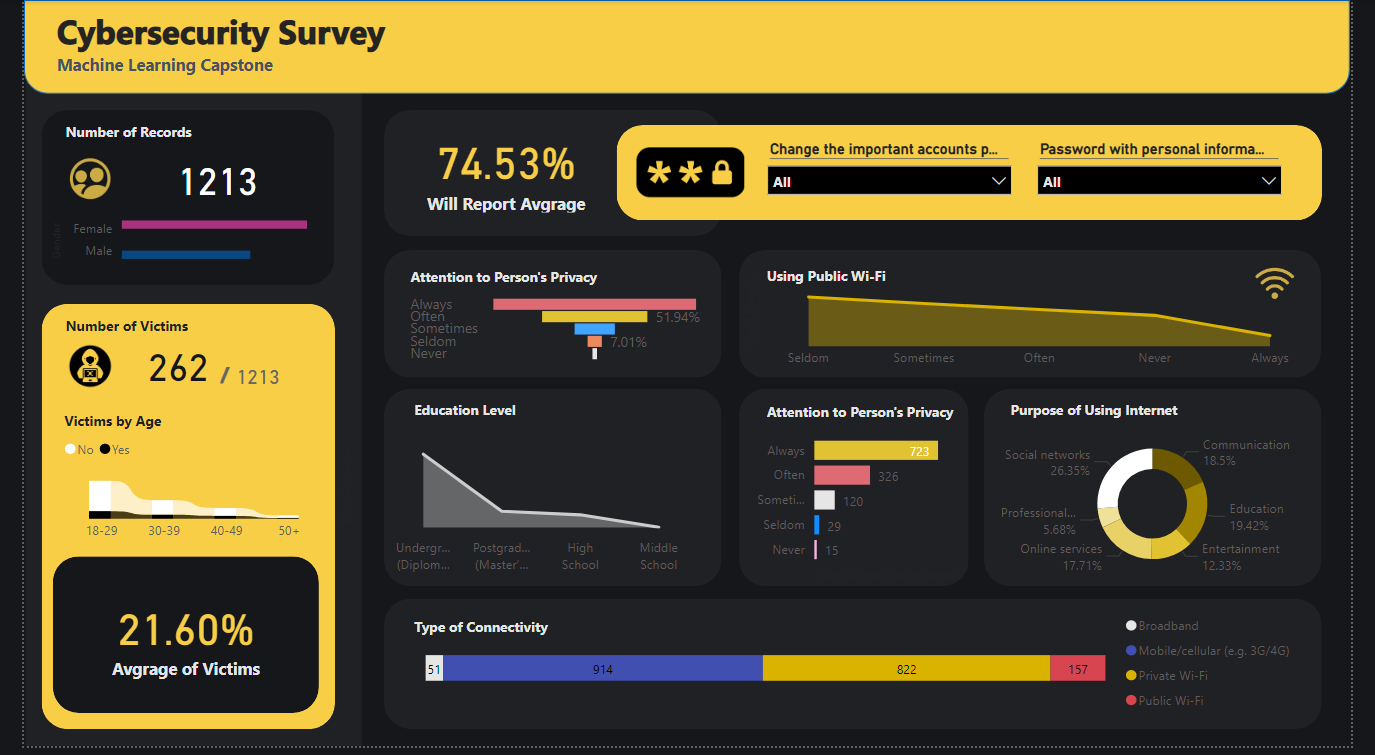

This screenshot's page, from the dashboard's own definition file:
{"tool":"powerbi","page":{"name":"Page 1","canvas":[1280,720],"ordinal":0},"visuals":[{"type":"shape","box":[1.2,0,324.4,720],"z":0},{"type":"shape","box":[0,0,1279.6,90.5],"z":1000},{"type":"shape","box":[16.9,106.1,282.2,168.8],"z":2000},{"type":"textbox","box":[27,4.1,399.7,79.7],"z":3000},{"type":"card","fields":{"Values":["CountNonNull(Records.record_id)"]},"box":[96.1,141.5,181.3,61.8],"z":4000},{"type":"image","box":[35,143.5,57.9,57.9],"z":5000},{"type":"shape","box":[16.5,292.5,282.9,410.6],"z":6000},{"type":"shape","box":[407.8,597,281.5,86.5],"z":7000},{"type":"shape","box":[27.5,537,256.8,151.1],"z":8000},{"type":"shape","box":[347.1,106.2,325.4,121.5],"z":9000},{"type":"shape","box":[571.3,121.1,680.5,91.8],"z":10000},{"type":"shape","box":[347.1,577.5,904.6,125.6],"z":11000},{"type":"shape","box":[926.4,374.9,325.4,190.4],"z":12000},{"type":"textbox","box":[35,113.4,199,43.4],"z":13000},{"type":"clusteredBarChart","fields":{"Y":["CountNonNull(Records.Gender)"],"Category":["Records.Gender"],"Series":["Records.Gender"]},"box":[20.5,180.9,278.6,94.1],"z":14000},{"type":"image","box":[32.6,319.6,62.7,66.3],"z":15000},{"type":"textbox","box":[35,300.3,199,43.4],"z":16000},{"type":"card","fields":{"Values":["CountNonNull(Records.Victim of cybercrime)"]},"box":[97.5,320,101.6,63.2],"z":17000},{"type":"card","fields":{"Values":["CountNonNull(Records.record_id)"]},"box":[199.1,344.7,53.6,38.5],"z":18000},{"type":"textbox","box":[184,342,24.7,42.6],"z":19000},{"type":"ribbonChart","fields":{"Category":["Records.Age"],"Series":["Records.Victim of cybercrime"],"Y":["CountNonNull(Records.Victim of cybercrime)"]},"box":[34.3,413.4,263.7,118.1],"z":20000},{"type":"textbox","box":[34.3,391.4,199.1,43.9],"z":21000},{"type":"donutChart","fields":{"Y":["Sum(Purpose of using internet.Communication)","Sum(Purpose of using internet.Education)","Sum(Purpose of using internet.Entertainment)","Sum(Purpose of using internet.Online services)","Sum(Purpose of using internet.Professional reasons)","Sum(Purpose of using internet.Social networks)"]},"box":[937.2,412.7,303.8,147.2],"z":22000},{"type":"card","fields":{"Values":["Records.AvgVictim"]},"box":[40.5,542.8,230.9,141.8],"z":23000},{"type":"textbox","box":[946.6,381.7,199.8,43.2],"z":24000},{"type":"shape","box":[690.1,241.2,561.7,122.9],"z":25000},{"type":"card","fields":{"Values":["Records.WillReportAvg"]},"box":[382.2,119.7,166.1,90.5],"z":26000},{"type":"barChart","fields":{"Y":["Sum(Type of connectivity.Broadband (wired))","Sum(Type of connectivity.Mobile/cellular phone network (e.g. 3G/4G))","Sum(Type of connectivity.Private Wi-Fi (e.g. in your home))","Sum(Type of connectivity.Public Wi-Fi (e.g. in coffee shop))"]},"box":[382.2,585.6,853.3,110.7],"z":27000},{"type":"textbox","box":[371.4,591,199.8,43.2],"z":28000},{"type":"slicer","fields":{"Values":["Records.Change the important accounts passwords frequently"]},"box":[706.3,130.5,256.5,68.9],"z":29000},{"type":"slicer","fields":{"Values":["Records.Password with personal information"]},"box":[966.9,130.5,256.5,82.4],"z":30000},{"type":"image","box":[586.1,108.9,113.4,114.8],"z":31000},{"type":"image","box":[1178.9,249.3,56.7,47.3],"z":33000},{"type":"textbox","box":[711.7,252,140.4,40.5],"z":34000},{"type":"shape","box":[690.1,374.9,221.4,190.4],"z":35000},{"type":"shape","box":[347.1,374.9,325.4,190.4],"z":36000},{"type":"areaChart","fields":{"Category":["Records.Education level"],"Y":["CountNonNull(Records.Education level)"]},"box":[299.7,413.2,351.1,147.2],"z":37000},{"type":"textbox","box":[371.4,381.7,199.8,43.2],"z":38000},{"type":"shape","box":[347.1,241.2,325.4,122.9],"z":39000},{"type":"textbox","box":[367.4,253.4,263.3,40.5],"z":40000},{"type":"funnel","fields":{"Category":["Records.Attention to person's account privacy"],"Y":["CountNonNull(Records.Attention to person's account privacy)"]},"box":[367.4,281.8,290.3,70.2],"z":41000},{"type":"clusteredBarChart","fields":{"Y":["CountNonNull(Records.Aware of the danger of clicking pop-up screens)"],"Category":["Records.Aware of the danger of clicking pop-up screens"]},"box":[671.2,403.3,240.3,162],"z":42000},{"type":"textbox","box":[711.6,383.1,199,41],"z":43000},{"type":"stackedAreaChart","fields":{"Category":["Records.Using public Wi-Fi"],"Y":["CountNonNull(Records.Using public Wi-Fi)"]},"box":[690.1,252,561.7,112.1],"z":43500}]}

Visuals, with their boxes in screenshot pixels (x1, y1, x2, y2), scaled from the page's 1280x720 canvas onto the 1375x755 screenshot:
shape: pyautogui.locateOnScreen(1, 0, 350, 754)
shape: pyautogui.locateOnScreen(0, 0, 1374, 95)
shape: pyautogui.locateOnScreen(18, 111, 321, 288)
textbox: pyautogui.locateOnScreen(29, 4, 458, 88)
card - CountNonNull(Records.record_id): pyautogui.locateOnScreen(103, 148, 298, 213)
image: pyautogui.locateOnScreen(38, 150, 100, 211)
shape: pyautogui.locateOnScreen(18, 307, 322, 737)
shape: pyautogui.locateOnScreen(438, 626, 740, 717)
shape: pyautogui.locateOnScreen(30, 563, 305, 722)
shape: pyautogui.locateOnScreen(373, 111, 722, 239)
shape: pyautogui.locateOnScreen(614, 127, 1345, 223)
shape: pyautogui.locateOnScreen(373, 606, 1345, 737)
shape: pyautogui.locateOnScreen(995, 393, 1345, 593)
textbox: pyautogui.locateOnScreen(38, 119, 251, 164)
clusteredBarChart - CountNonNull(Records.Gender) x Records.Gender: pyautogui.locateOnScreen(22, 190, 321, 288)
image: pyautogui.locateOnScreen(35, 335, 102, 405)
textbox: pyautogui.locateOnScreen(38, 315, 251, 360)
card - CountNonNull(Records.Victim of cybercrime): pyautogui.locateOnScreen(105, 336, 214, 402)
card - CountNonNull(Records.record_id): pyautogui.locateOnScreen(214, 361, 271, 402)
textbox: pyautogui.locateOnScreen(198, 359, 224, 403)
ribbonChart - Records.Age x Records.Victim of cybercrime: pyautogui.locateOnScreen(37, 433, 320, 557)
textbox: pyautogui.locateOnScreen(37, 410, 251, 456)
donutChart - Sum(Purpose of using internet.Communication) x Sum(Purpose of using internet.Education): pyautogui.locateOnScreen(1007, 433, 1333, 587)
card - Records.AvgVictim: pyautogui.locateOnScreen(44, 569, 292, 718)
textbox: pyautogui.locateOnScreen(1017, 400, 1231, 446)
shape: pyautogui.locateOnScreen(741, 253, 1345, 382)
card - Records.WillReportAvg: pyautogui.locateOnScreen(411, 126, 589, 220)
barChart - Sum(Type of connectivity.Broadband (wired)) x Sum(Type of connectivity.Mobile/cellular phone network (e.g. 3G/4G)): pyautogui.locateOnScreen(411, 614, 1327, 730)
textbox: pyautogui.locateOnScreen(399, 620, 614, 665)
slicer - Records.Change the important accounts passwords frequently: pyautogui.locateOnScreen(759, 137, 1034, 209)
slicer - Records.Password with personal information: pyautogui.locateOnScreen(1039, 137, 1314, 223)
image: pyautogui.locateOnScreen(630, 114, 751, 235)
image: pyautogui.locateOnScreen(1266, 261, 1327, 311)
textbox: pyautogui.locateOnScreen(765, 264, 915, 307)
shape: pyautogui.locateOnScreen(741, 393, 979, 593)
shape: pyautogui.locateOnScreen(373, 393, 722, 593)
areaChart - Records.Education level x CountNonNull(Records.Education level): pyautogui.locateOnScreen(322, 433, 699, 588)
textbox: pyautogui.locateOnScreen(399, 400, 614, 446)
shape: pyautogui.locateOnScreen(373, 253, 722, 382)
textbox: pyautogui.locateOnScreen(395, 266, 678, 308)
funnel - Records.Attention to person's account privacy x CountNonNull(Records.Attention to person's account privacy): pyautogui.locateOnScreen(395, 295, 707, 369)
clusteredBarChart - CountNonNull(Records.Aware of the danger of clicking pop-up screens) x Records.Aware of the danger of clicking pop-up screens: pyautogui.locateOnScreen(721, 423, 979, 593)
textbox: pyautogui.locateOnScreen(764, 402, 978, 445)
stackedAreaChart - Records.Using public Wi-Fi x CountNonNull(Records.Using public Wi-Fi): pyautogui.locateOnScreen(741, 264, 1345, 382)
